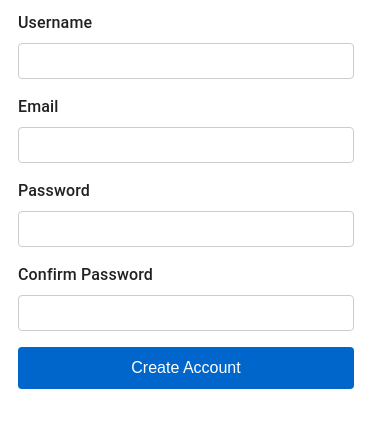
Test: RegisterForm › validates password length
This screenshot has width=373, height=431.
In the field labelled "Username": {"x": 186, "y": 61} [18,43,354,79], type "testuser"
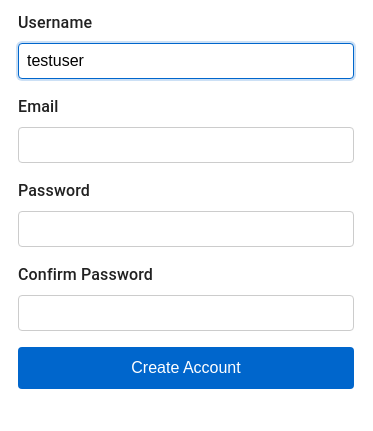
In the field labelled "Email": {"x": 186, "y": 145} [18,127,354,163], type "test@example.com"
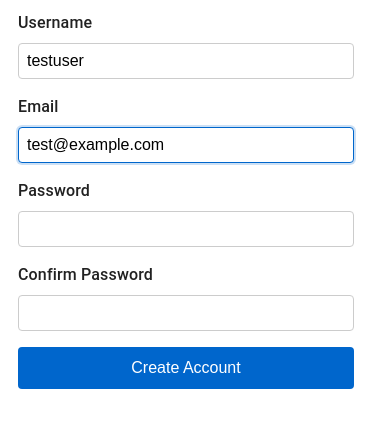
In the password field labelled "Password": {"x": 186, "y": 229} [18,211,354,247], type "short"
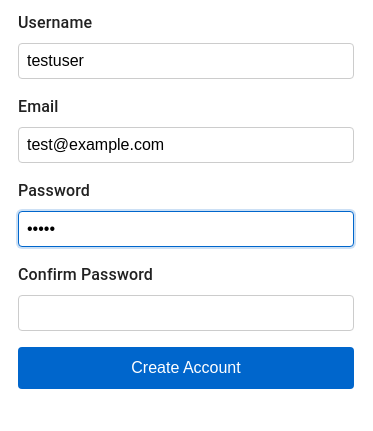
In the password field labelled "Confirm Password": {"x": 186, "y": 313} [18,295,354,331], type "short"
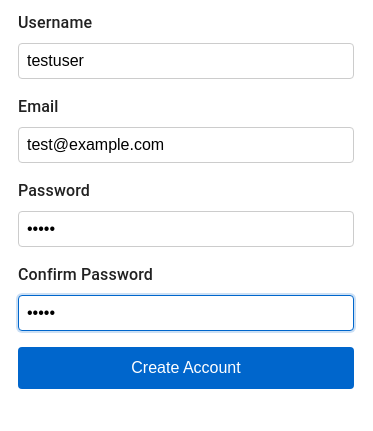
Click the button "Create Account": {"x": 186, "y": 368} [18,347,354,389]
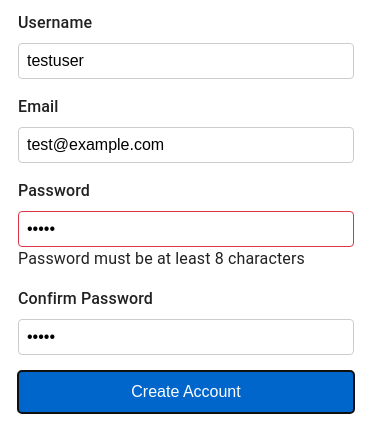
expect the text "Password must be at least 8 characters" is shown: met, box [18,247,354,271]
